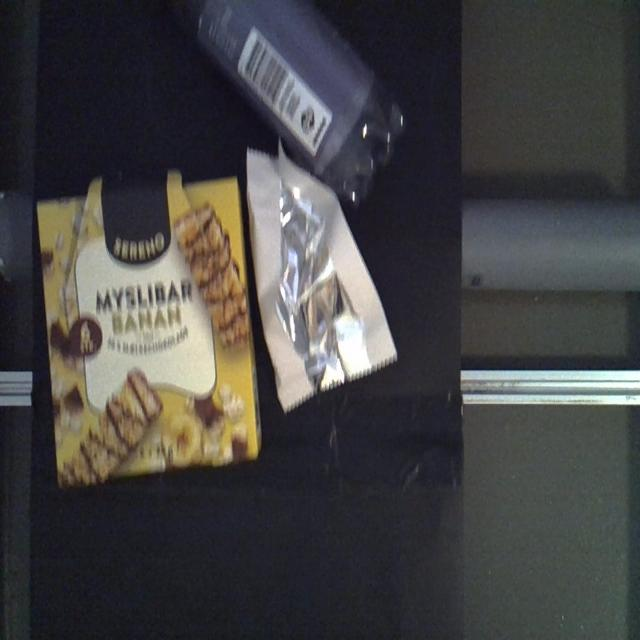bottle-plastic: (185, 0, 408, 209)
carton: (36, 166, 266, 491)
packaging-soft-plastic: (244, 140, 398, 414)
